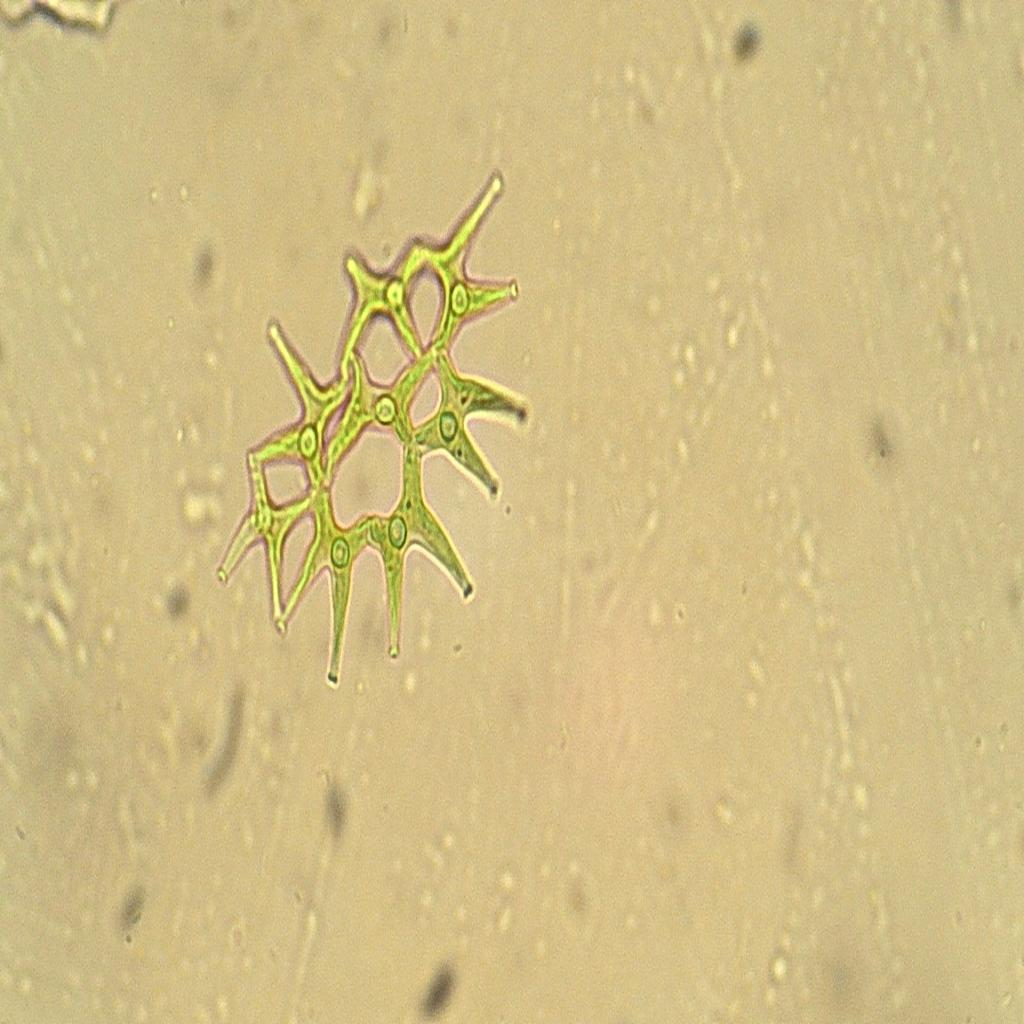Pediastrum_CFI: (203, 146, 541, 704)
